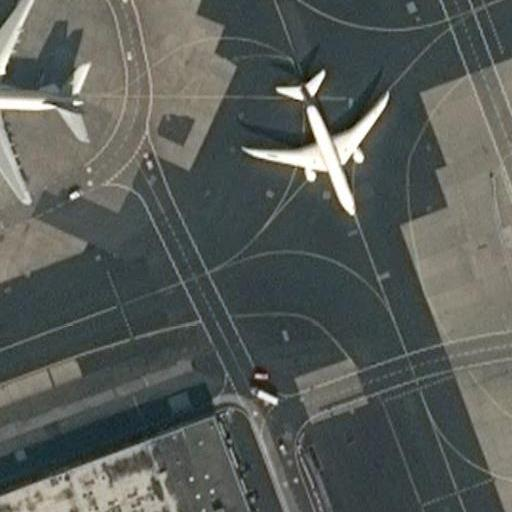Aircraft: (237, 65, 394, 213), (0, 0, 110, 203)
